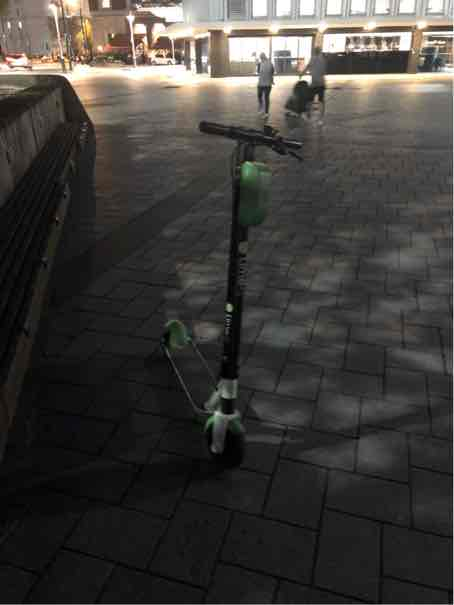scooter: (146, 114, 303, 488)
